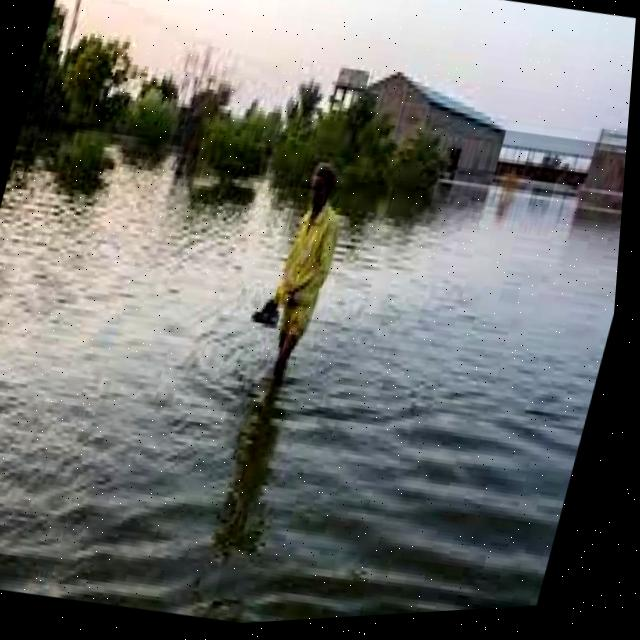civilian: (221, 151, 375, 399)
